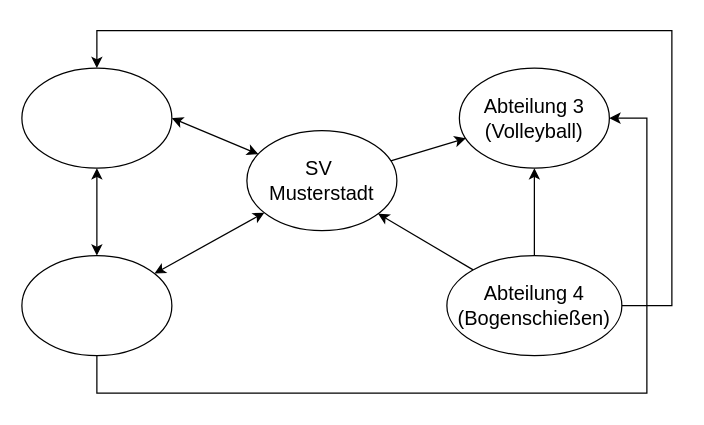
Image size: 704x425. Some labels were removed from this diagram. Here are the shapes that lost their labels. From the top down, the centre of each, then its label:
point (96, 117): Abteilung 1 (Fußball)
point (96, 305): Abteilung 2 (Handball)
